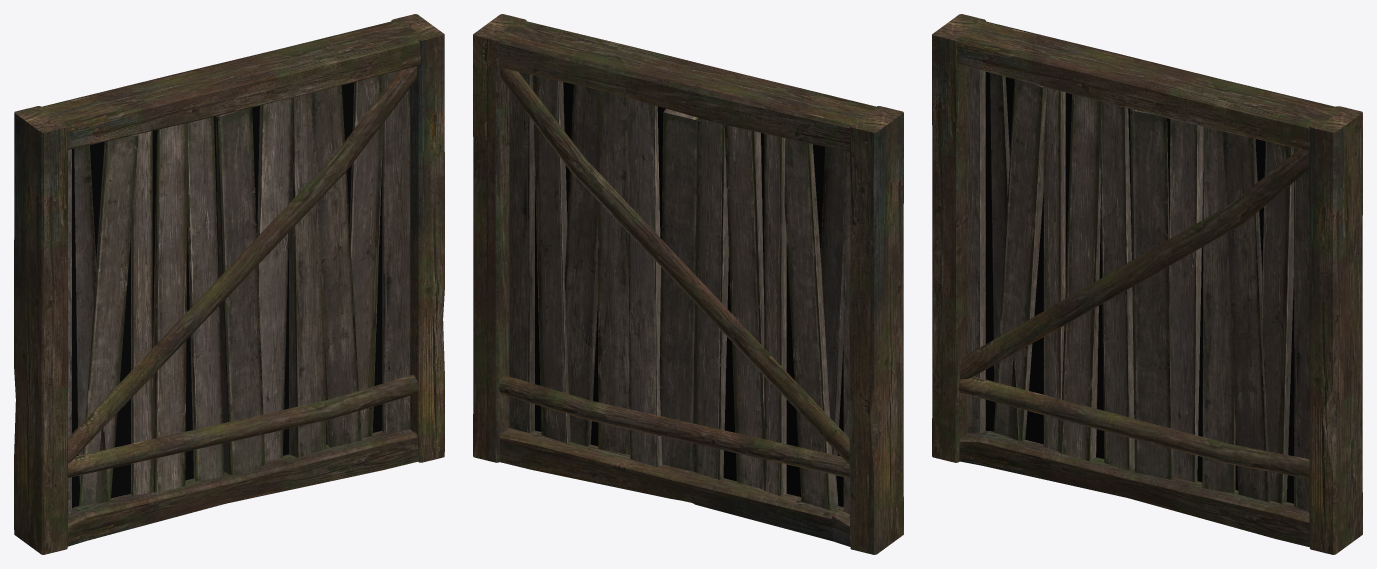
3 renders of one model, left to right at view 1: azimuth 30°, elevation 25°; view 2: azimuth 150°, elevation 25°; view 3: azimuth 330°, elevation 25°, orthographic.
Visible parts, largest first — view 1: SM_BB_T1_Wall_Large_LOD0; view 2: SM_BB_T1_Wall_Large_LOD0; view 3: SM_BB_T1_Wall_Large_LOD0.
Boxes of the visible parts, box(x1,y1,x2,y2) form: SM_BB_T1_Wall_Large_LOD0: box(14, 14, 444, 554); SM_BB_T1_Wall_Large_LOD0: box(473, 14, 903, 554); SM_BB_T1_Wall_Large_LOD0: box(932, 14, 1362, 554).
Size of the model in its own units: 3 by 3 by 0.3776.
Materials: 2 (2 with a texture image).
